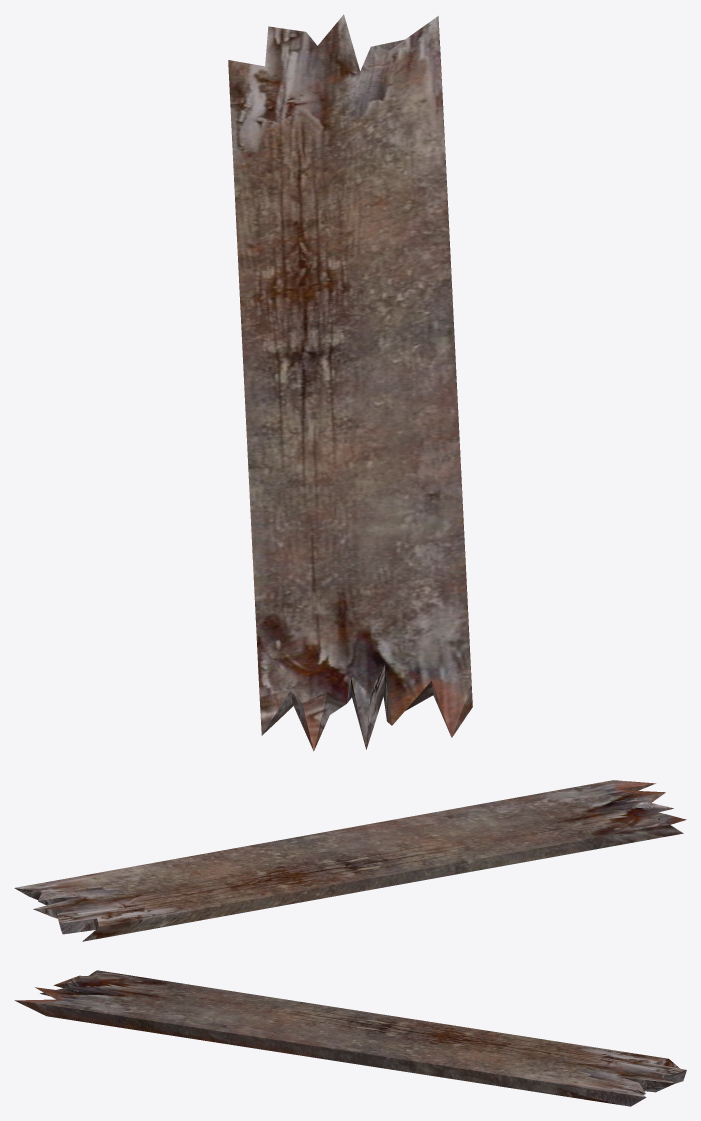
Rendered from junk_scrap_04.glb.
3 views of the same model, one above another, from view 1: azimuth 30°, elevation 25°; view 2: azimuth 150°, elevation 25°; view 3: azimuth 270°, elevation 25° (orthographic). The views are drawn at different scales.
Parts seen in each view (by area): view 1: junk_scrap_04; view 2: junk_scrap_04; view 3: junk_scrap_04.
Part boxes in pixels (x1,y1,x2,y2): junk_scrap_04: [228, 14, 472, 751]; junk_scrap_04: [14, 780, 686, 941]; junk_scrap_04: [14, 970, 686, 1106].
Size of what is drawn, in the model's own units: 0.6445 by 0.1049 by 1.01.
1 material, 1 textured.
